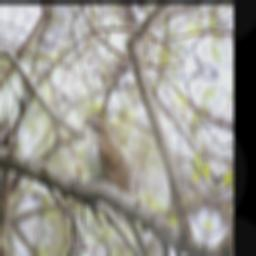Cuckoo: (61, 115, 174, 256)
